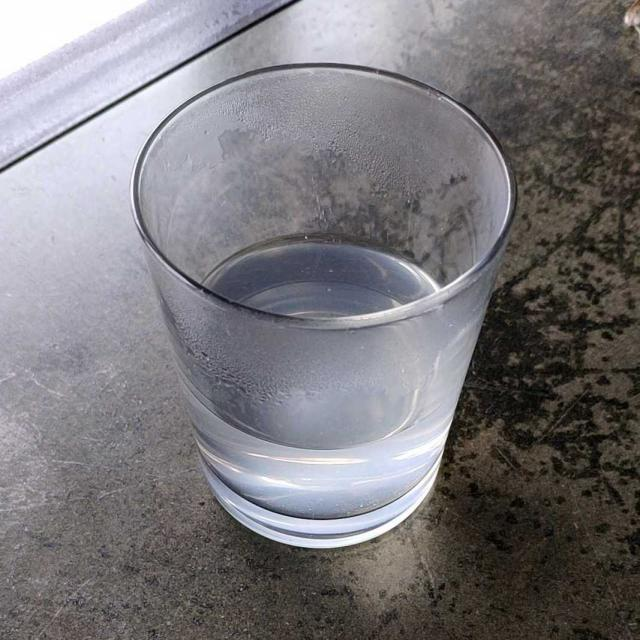water: (172, 232, 467, 544)
